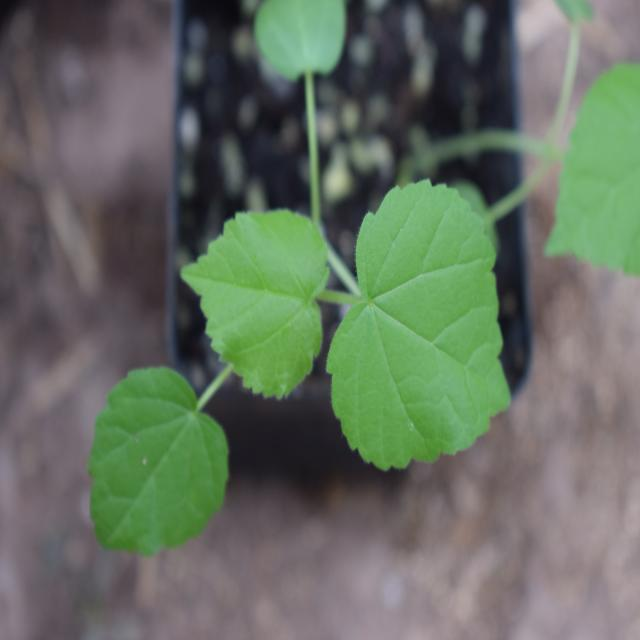abutilon theophrasti: (73, 158, 508, 542)
